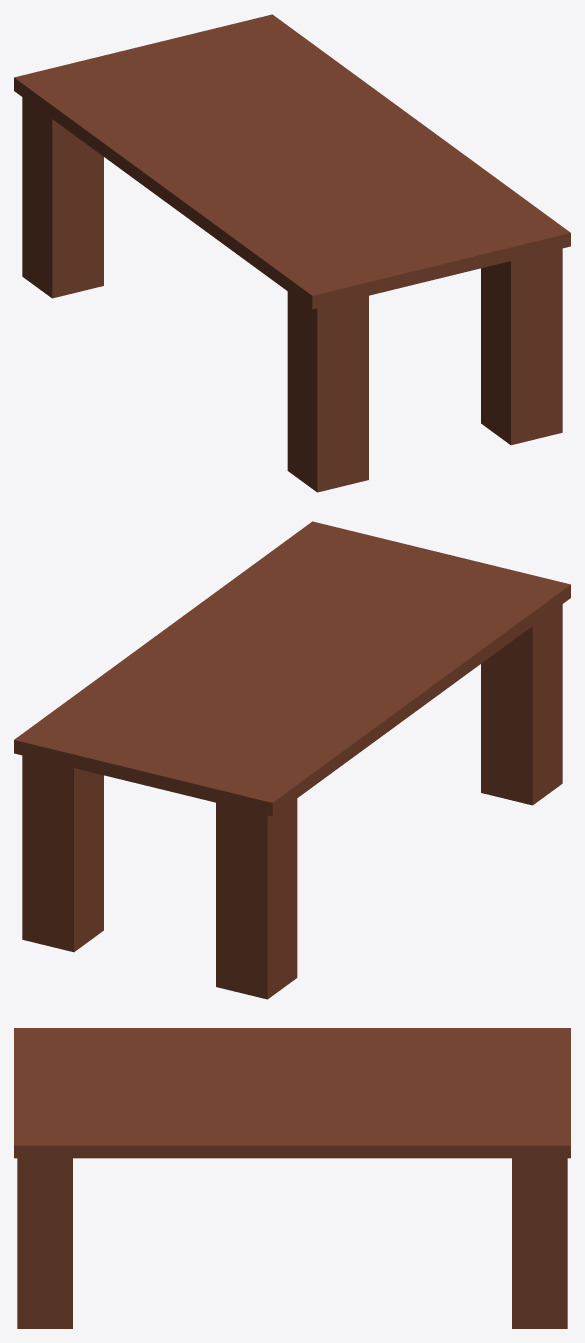
File: table_1.fbx
3 renders of one model, top to bottom at view 1: azimuth 30°, elevation 25°; view 2: azimuth 150°, elevation 25°; view 3: azimuth 270°, elevation 25°, orthographic. The views are drawn at different scales.
Visible parts, largest first — view 1: Cube; view 2: Cube; view 3: Cube.
Boxes of the visible parts, x1,y1,x2,y2 form: Cube: (14,14,570,492); Cube: (14,521,570,999); Cube: (14,1028,570,1328).
Bounding box in the file's own units: 91.26 × 67.31 × 183.
